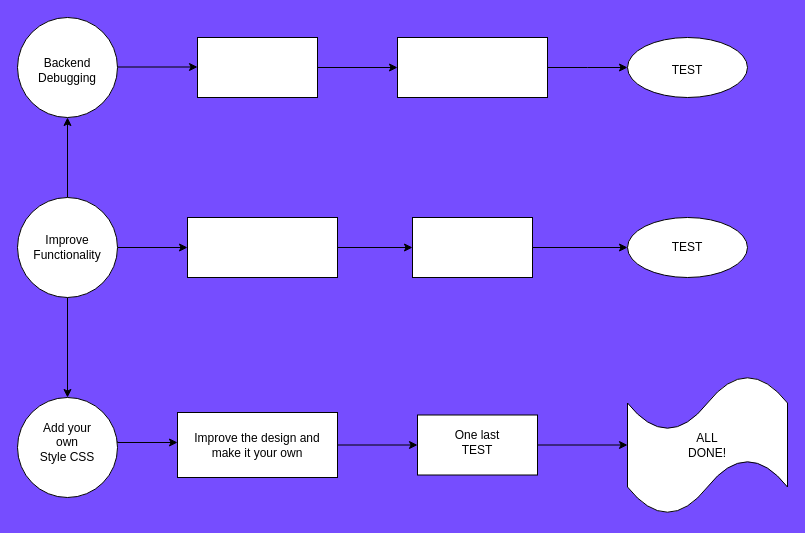
The diagram is 805 pixels wide and 533 high, and some of its shapes have lost their labels. Each missing label, with the centre of its shape:
"Check local port, check server website" goes at point (257, 67).
"Debug" goes at point (472, 247).
"Figure out why users cannot get past login form" goes at point (262, 247).
"Make sure all extensions are functioning properly" goes at point (472, 67).
